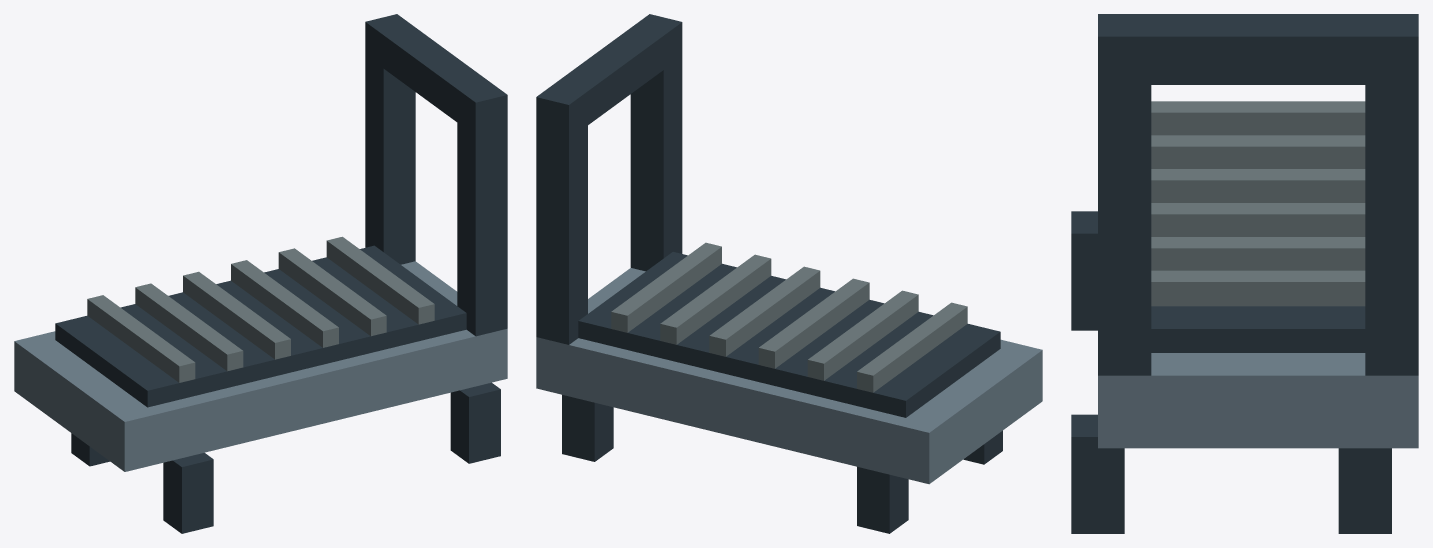
Rendered from film-20.glb.
3 renders of one model, left to right at view 1: azimuth 30°, elevation 25°; view 2: azimuth 150°, elevation 25°; view 3: azimuth 270°, elevation 25°, orthographic. The views are drawn at different scales.
Parts seen in each view (by area): view 1: Popcorn cart; view 2: Popcorn cart; view 3: Popcorn cart.
Boxes of the visible parts, x1,y1,x2,y2 form: Popcorn cart: (14, 14, 507, 533); Popcorn cart: (536, 14, 1042, 533); Popcorn cart: (1071, 14, 1418, 533).
Bounding box in the file's own units: 1.92 × 1.68 × 1.04.
